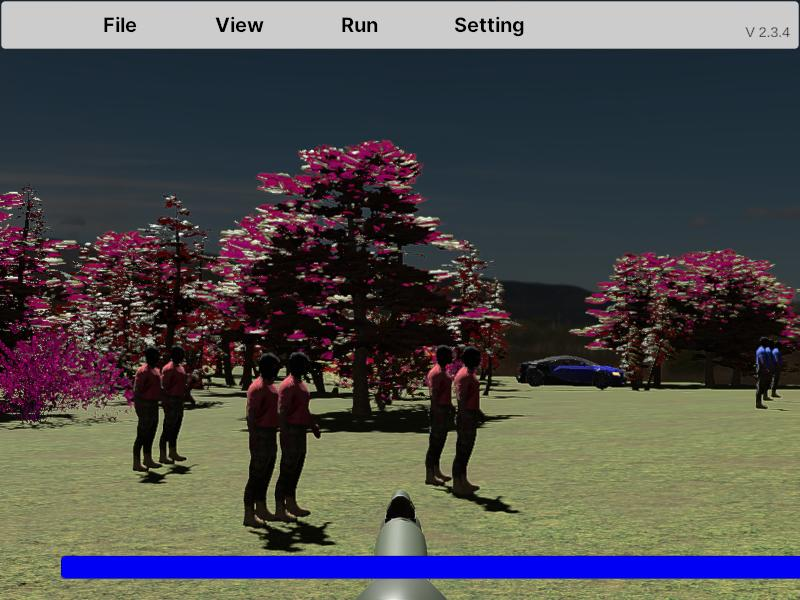Human: (244, 352, 292, 524), (275, 350, 321, 522), (451, 343, 485, 496), (132, 345, 172, 470), (157, 346, 197, 464), (425, 346, 458, 486), (754, 336, 774, 409), (767, 337, 783, 399)
car: (517, 355, 624, 389)
